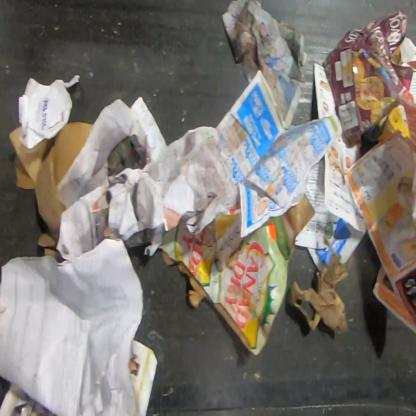cardboard: (156, 192, 318, 359), (322, 10, 414, 150), (8, 121, 96, 260)
